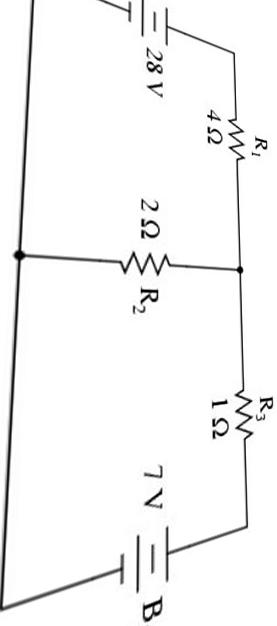resistor: (97, 233, 187, 272), (229, 377, 256, 460), (220, 101, 244, 174)
